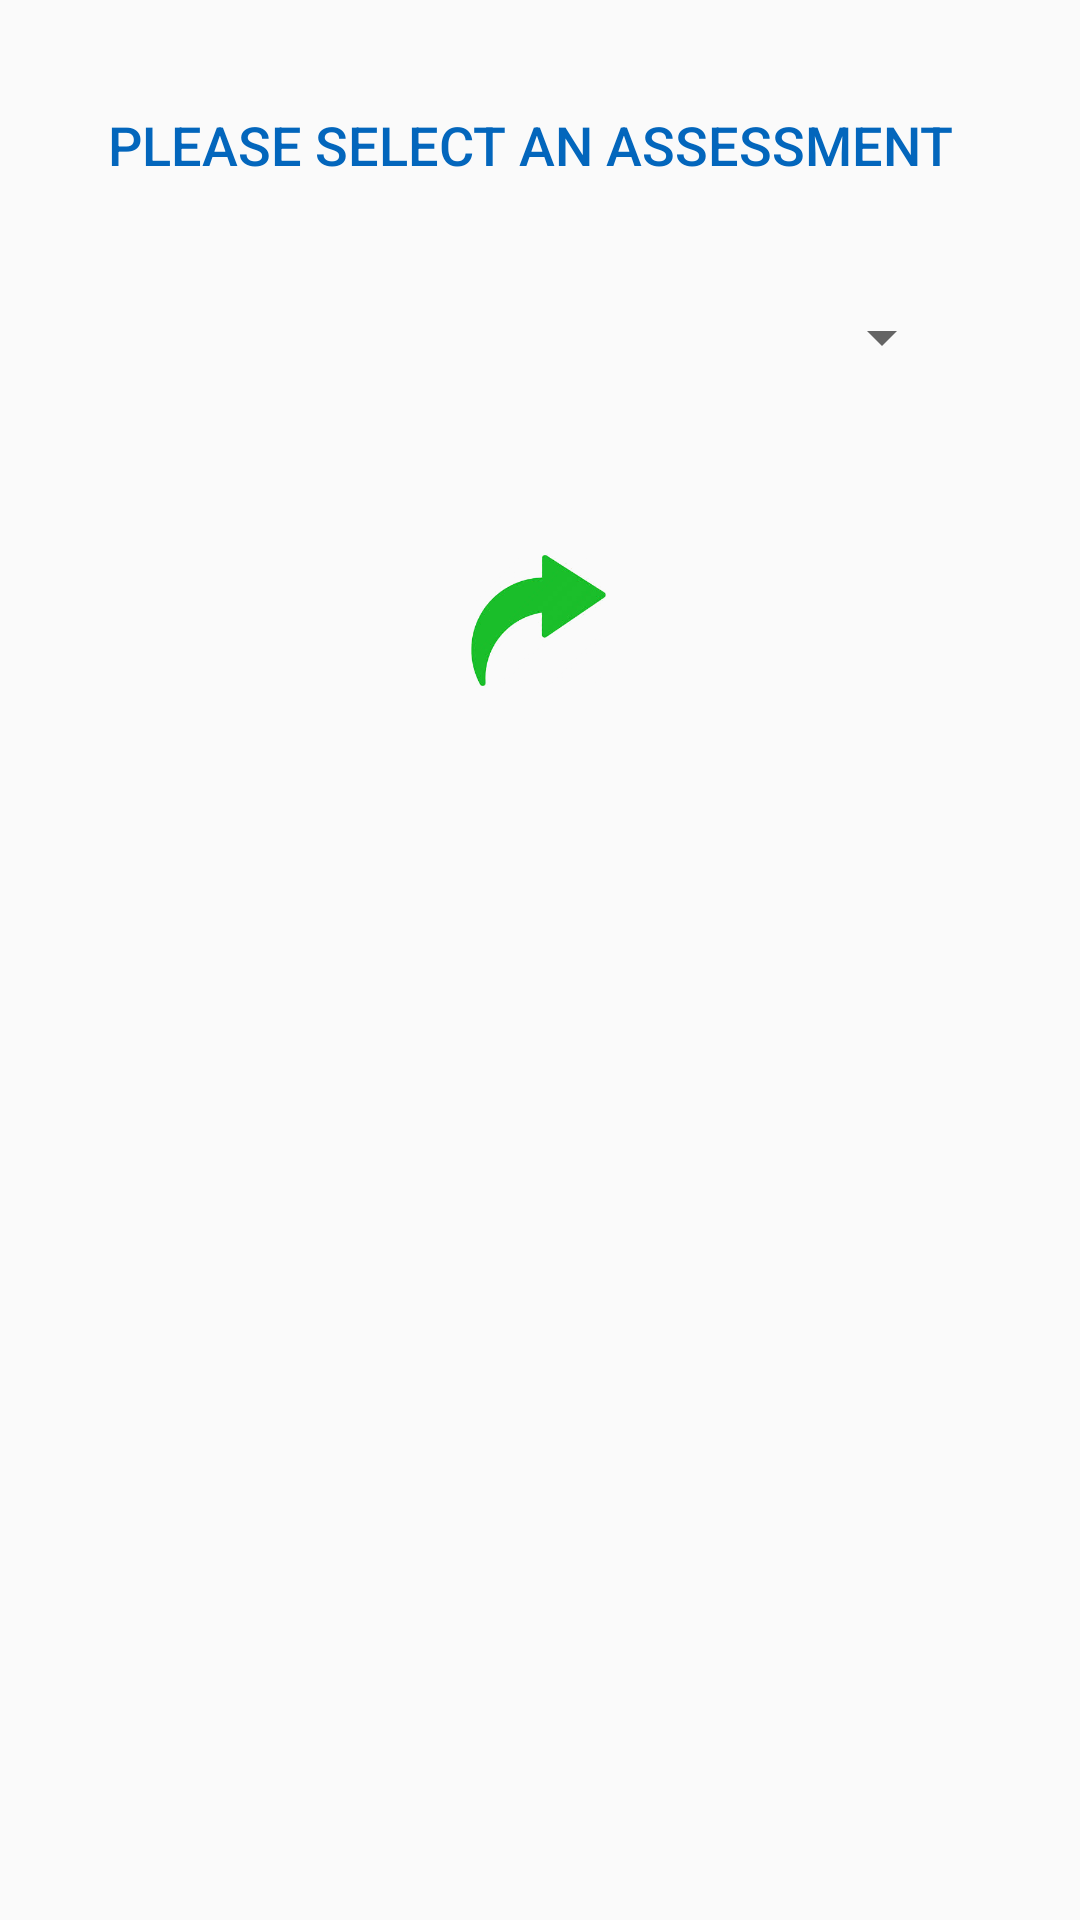

Named icons in this screenshot (1080px×1920px) and their centers, [x,y]:
forwardqq: [538,620]
